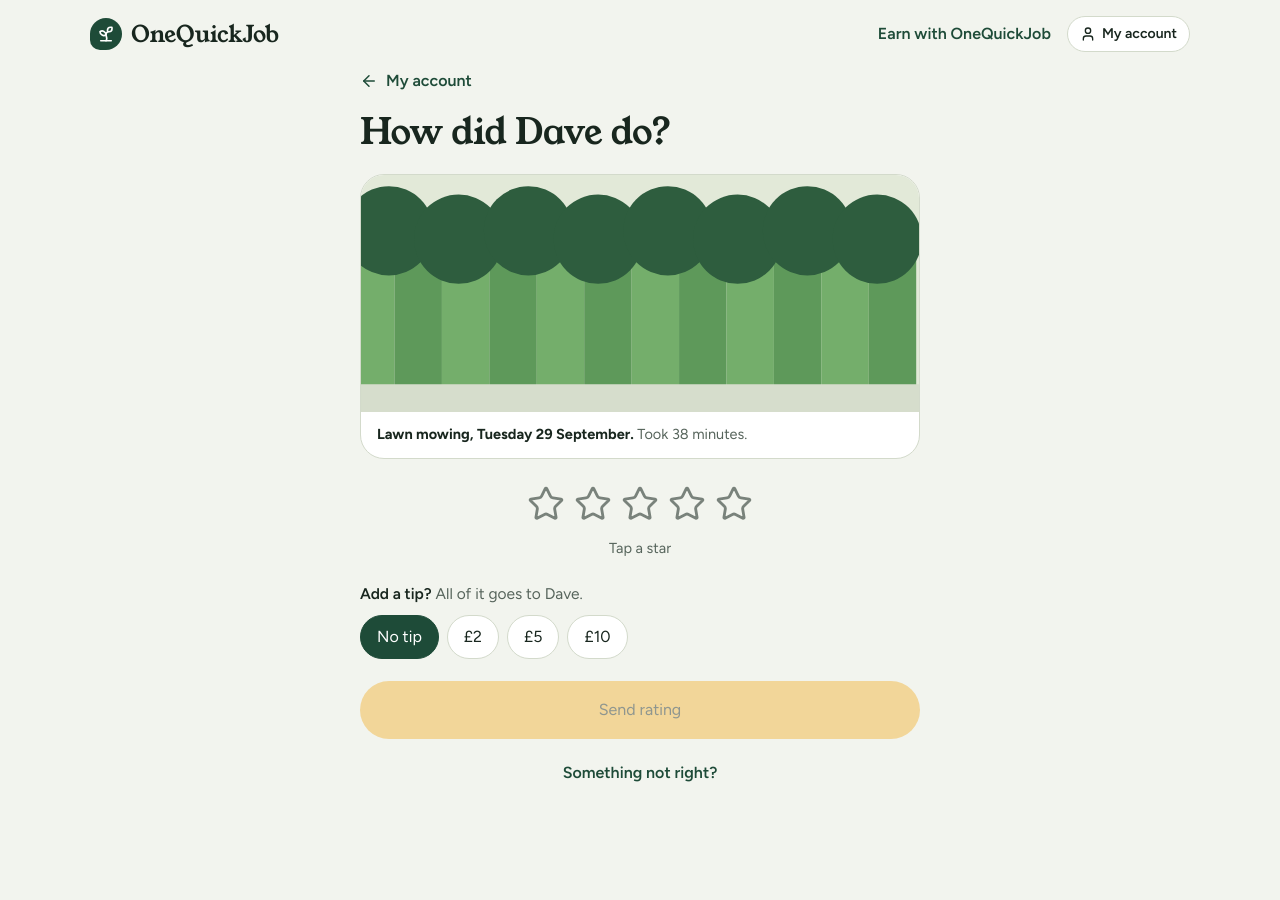
Test: rate a visit › sends stars, tags and a fee-free tip, then confirms
Expected: the heading "How did Dave do?" is shown, [360,106,671,157]
Expected: the text "All of it goes to Dave." is shown, [436,584,583,603]
Click the radio button named "5 stars".
click(734, 508)  # box [711,481,757,534]
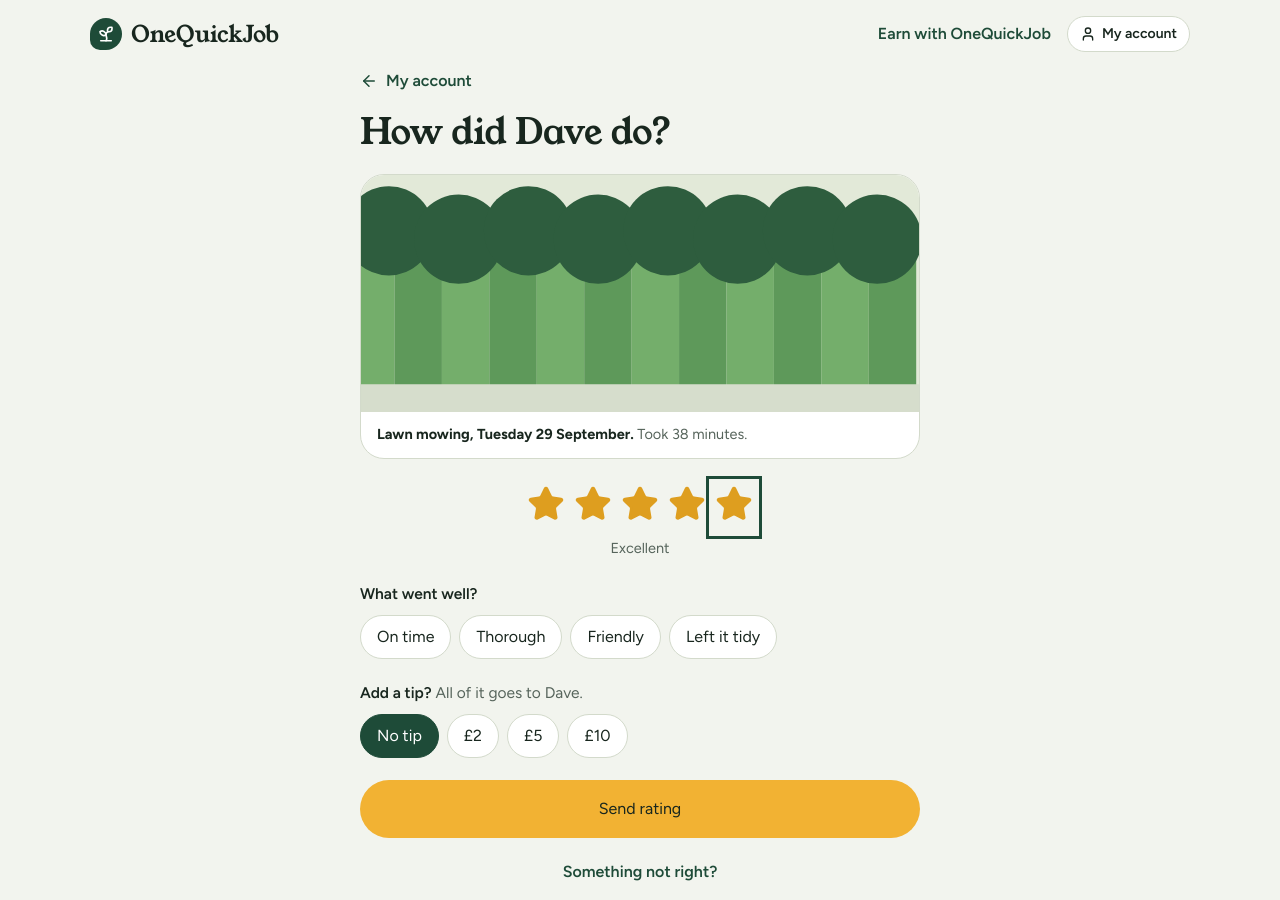
Click the button "Thorough".
click(511, 637)  # box [459,615,562,659]
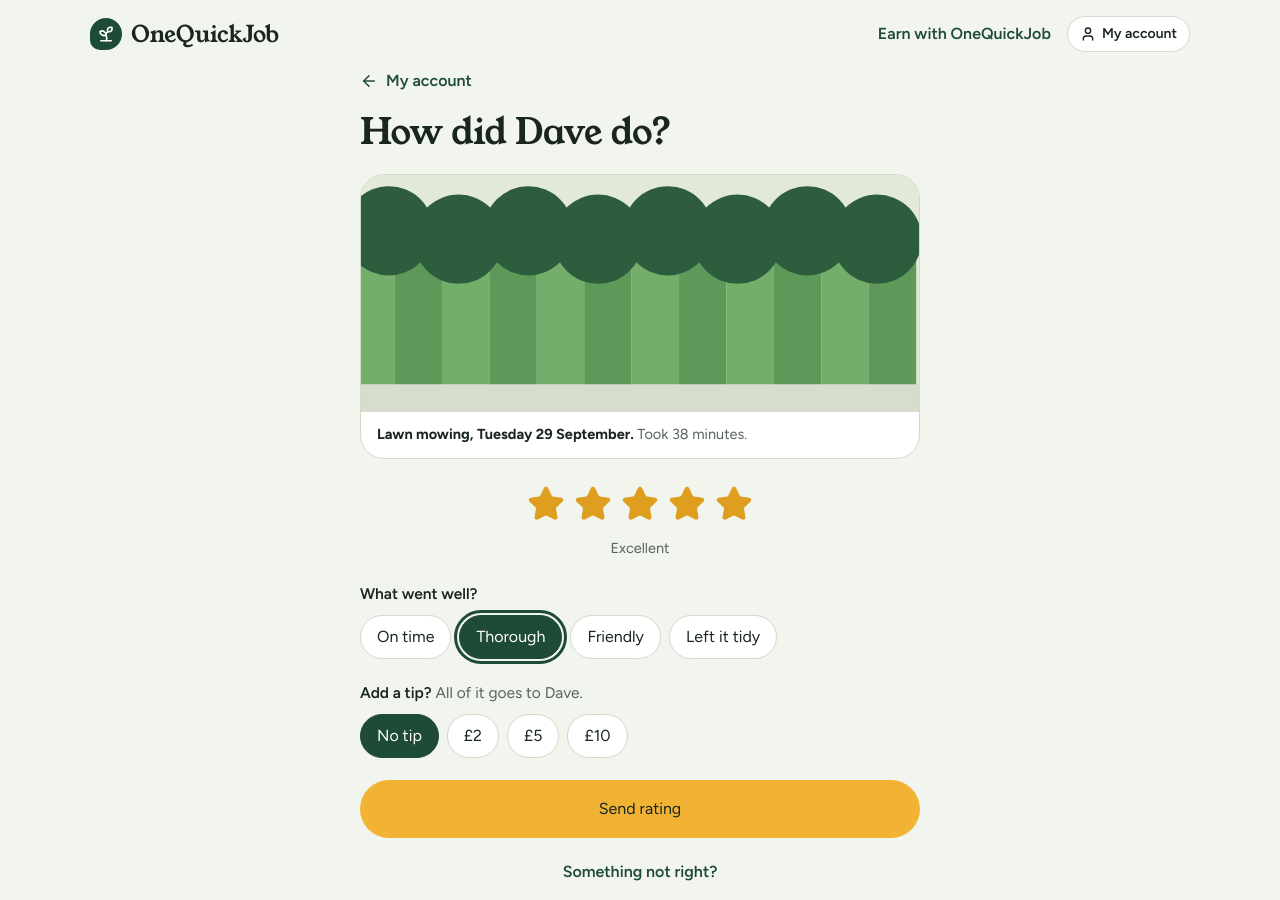
Click the button "£5".
click(533, 736)  # box [507,714,559,758]
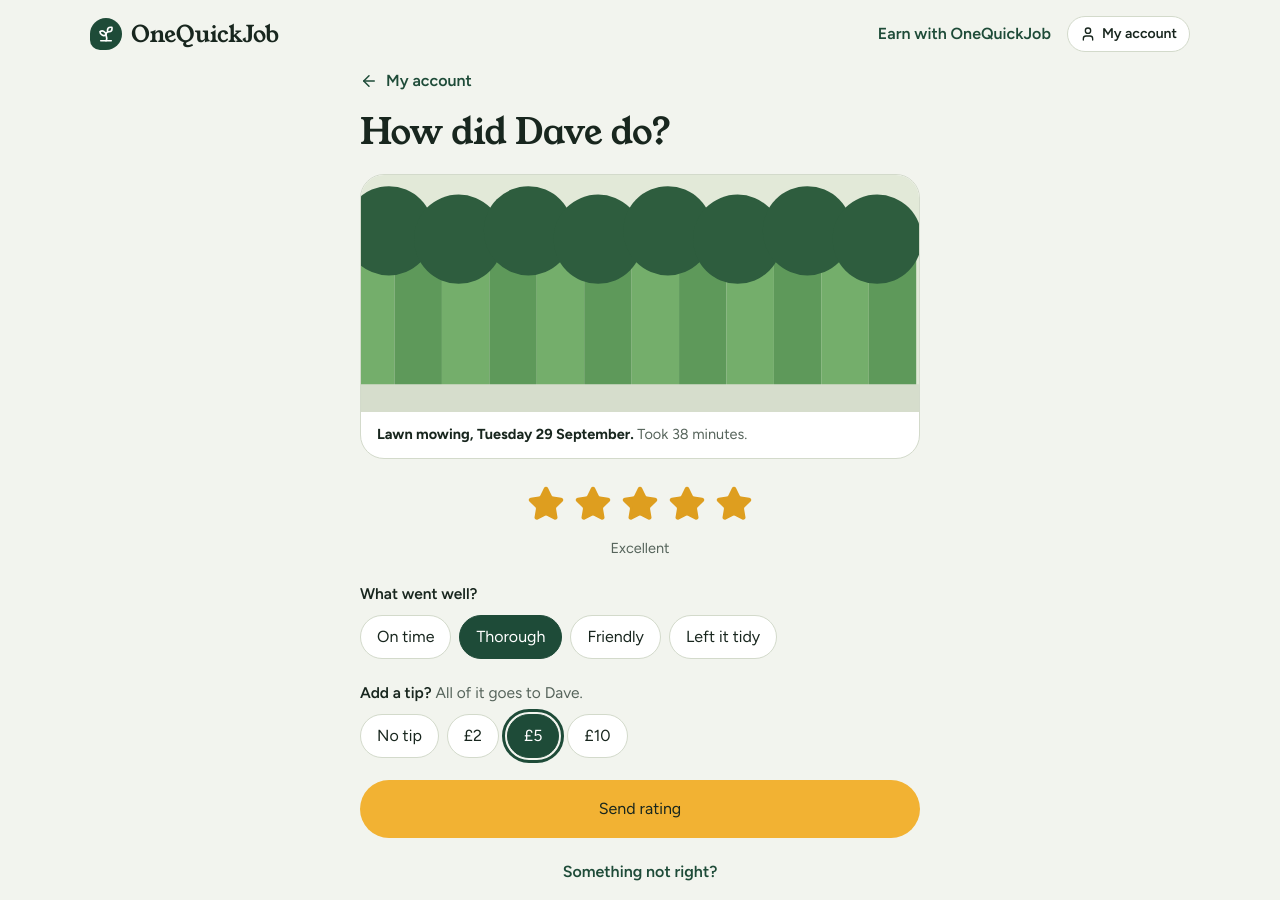
Click the button "Send rating".
click(640, 810)  # box [360,780,920,838]
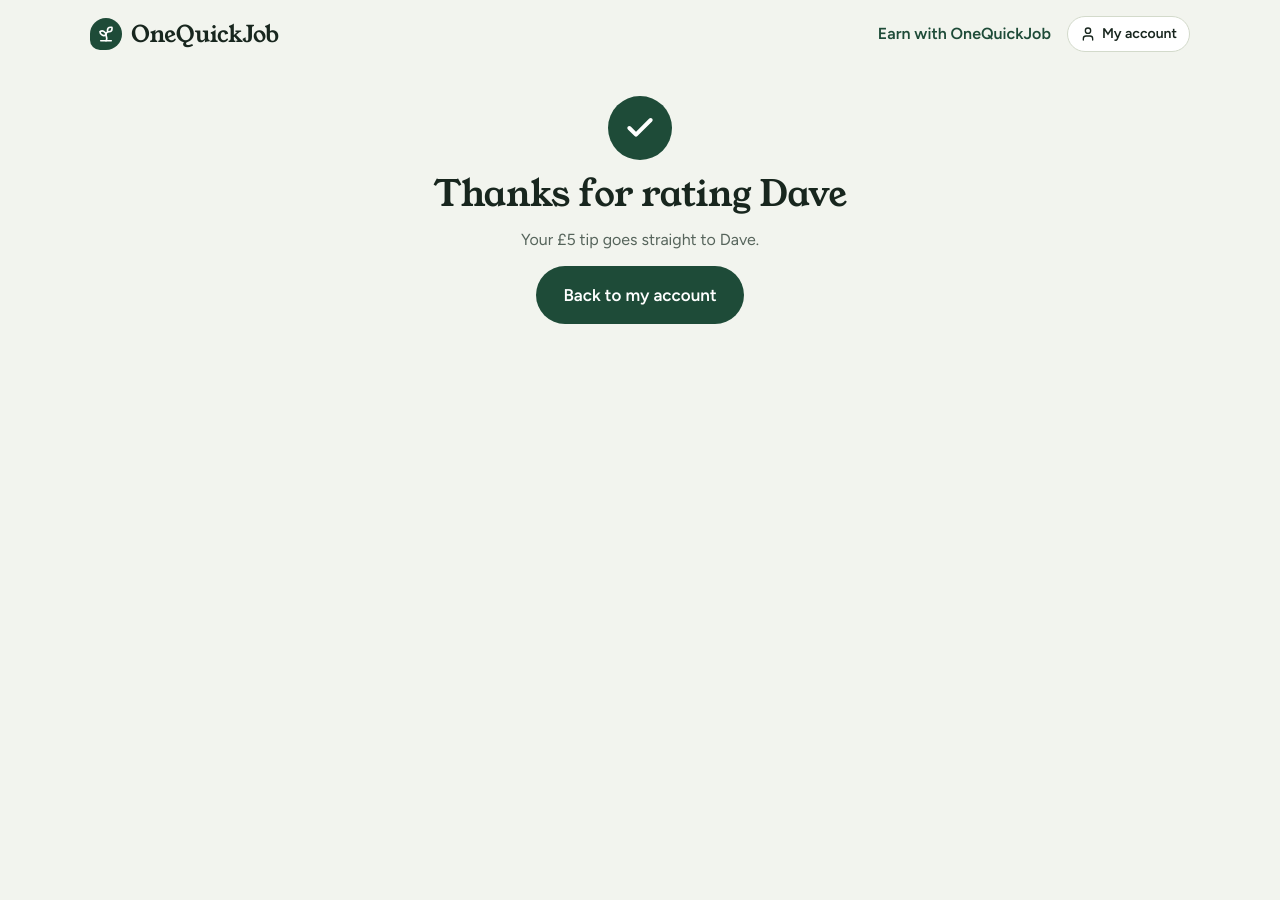
Now the heading "Thanks for rating Dave" is shown, box [433,174,847,214]
Now the text "Your £5 tip goes straight to Dave." is shown, box [521,228,759,252]
